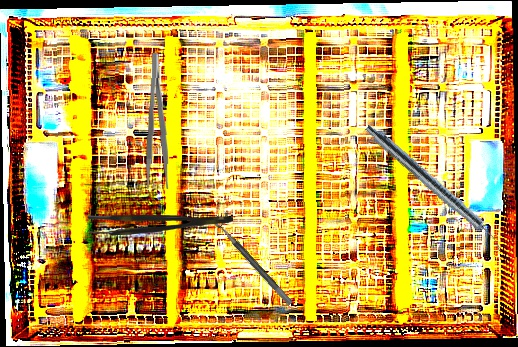Dressing Forceps: (144, 52, 174, 190)
Fixation Ring: (211, 210, 301, 307)
Handpiece: (360, 121, 509, 254)
Tissue Forceps: (88, 215, 233, 235)
